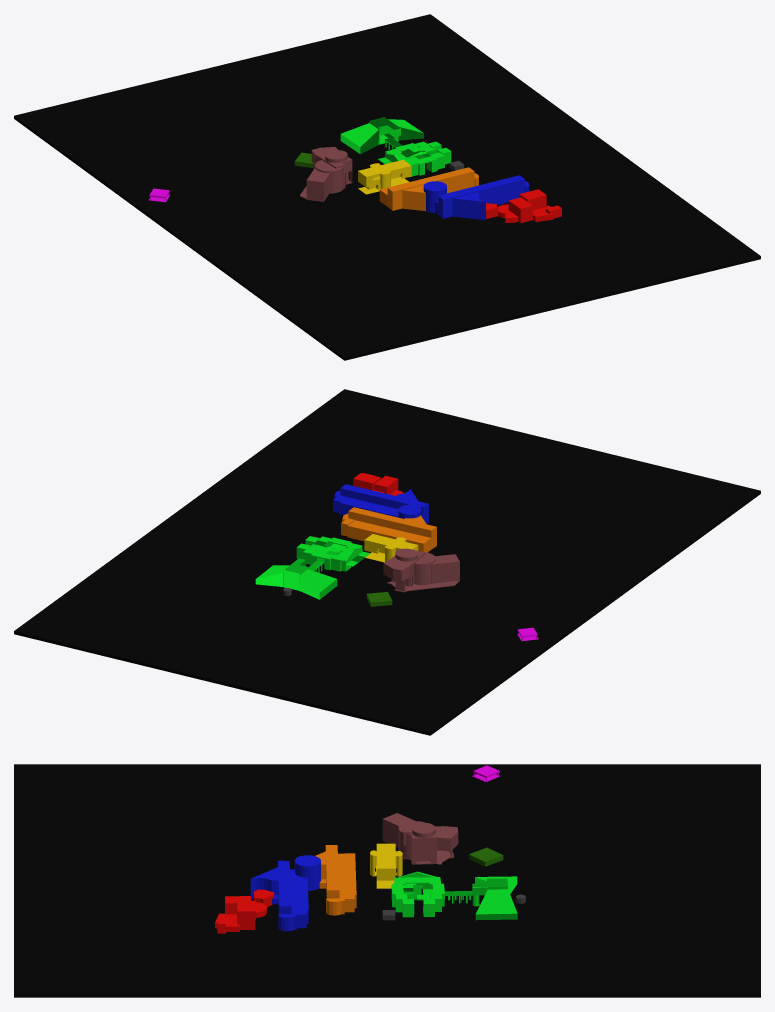
The picture shows the model from 3 angles, top to bottom: view 1: azimuth 30°, elevation 25°; view 2: azimuth 150°, elevation 25°; view 3: azimuth 270°, elevation 25°; orthographic projection. The views are drawn at different scales.
Visible parts, largest first — view 1: Plano, Cube003, Cubo006, Cubo003_1, Cubo008_1, Cubo006_2, Cube002; view 2: Plano, Cube003, Cubo003_1, Cubo008_1, Cubo006, Cube002, Cubo006_2; view 3: Plano, Cube003, Cubo006, Cubo003_1, Cubo008_1, Cubo006_2, Cube002, Cubo010_2.
Boxes of the visible parts, bbox=[...] form: Plano: bbox=[14, 14, 760, 360]; Cube003: bbox=[340, 117, 451, 177]; Cubo006: bbox=[423, 175, 529, 220]; Cubo003_1: bbox=[300, 147, 352, 201]; Cubo008_1: bbox=[379, 167, 478, 211]; Cubo006_2: bbox=[486, 189, 561, 223]; Cube002: bbox=[358, 159, 411, 194]; Plano: bbox=[14, 389, 760, 735]; Cube003: bbox=[255, 536, 369, 599]; Cubo003_1: bbox=[383, 548, 459, 592]; Cubo008_1: bbox=[341, 507, 436, 552]; Cubo006: bbox=[333, 484, 428, 523]; Cube002: bbox=[364, 534, 418, 562]; Cubo006_2: bbox=[353, 473, 403, 495]; Plano: bbox=[14, 764, 760, 997]; Cube003: bbox=[391, 871, 517, 920]; Cubo006: bbox=[250, 855, 320, 931]; Cubo003_1: bbox=[382, 813, 458, 864]; Cubo008_1: bbox=[315, 845, 356, 915]; Cubo006_2: bbox=[215, 889, 274, 933]; Cube002: bbox=[370, 843, 402, 888]; Cubo010_2: bbox=[468, 847, 503, 866].
Bounding box in the file's own units: 400 × 28.65 × 550.
